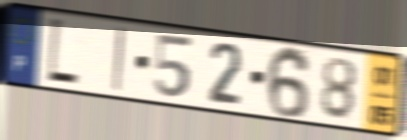2: (205, 40, 244, 109)
5: (151, 34, 196, 100)
6: (265, 43, 314, 122)
8: (317, 57, 361, 123)
I: (110, 25, 127, 95)
L: (44, 14, 82, 90)
